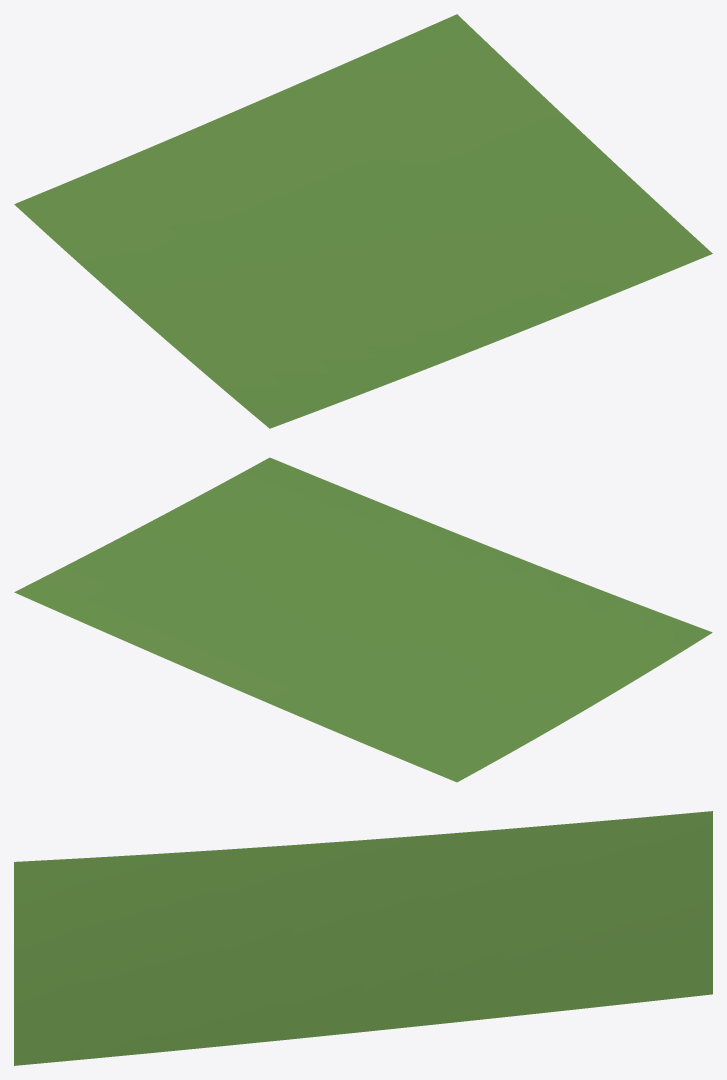
The model's file is terrain-2-15.gltf.
The picture shows the model from 3 angles, top to bottom: view 1: azimuth 30°, elevation 25°; view 2: azimuth 150°, elevation 25°; view 3: azimuth 270°, elevation 25°; orthographic projection. The views are drawn at different scales.
Size of the model in its own units: 50 by 12.86 by 50.
